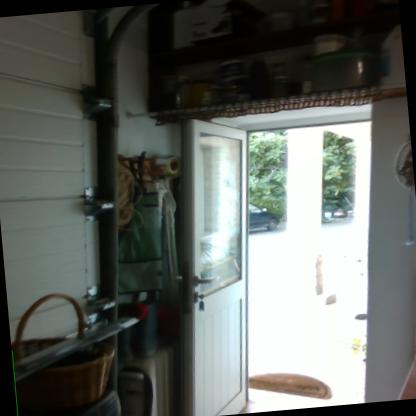open: (158, 92, 415, 415)
